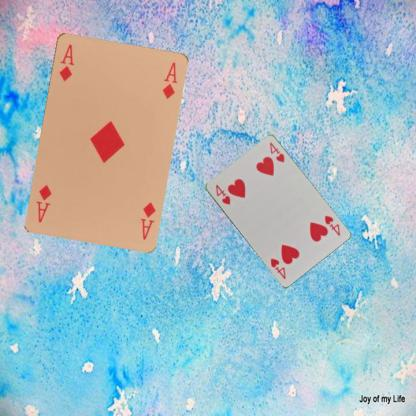4h: (212, 181, 232, 206), (322, 212, 341, 237)
Ad: (56, 41, 76, 83), (138, 199, 156, 241)
